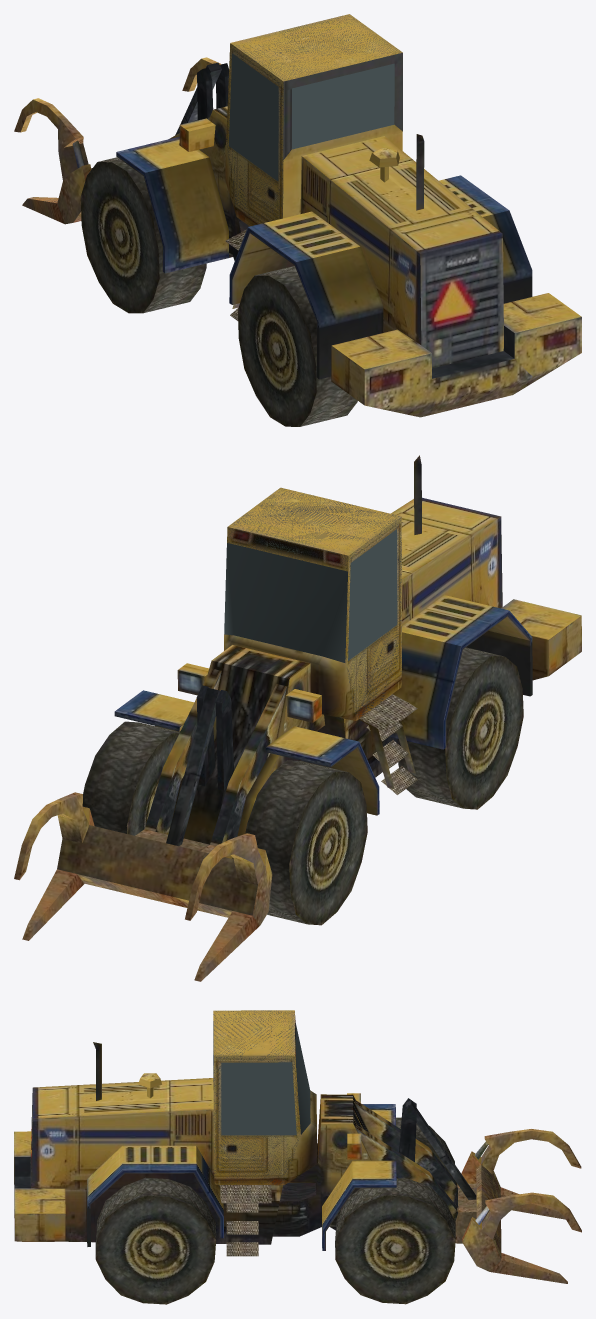
File: p54_41_loader_claw_yellow.glb
The picture shows the model from 3 angles, top to bottom: view 1: azimuth 30°, elevation 25°; view 2: azimuth 150°, elevation 25°; view 3: azimuth 270°, elevation 25°; orthographic projection. The views are drawn at different scales.
Parts seen in each view (by area): view 1: Body, Glass; view 2: Body, Glass; view 3: Body, Glass.
Boxes of the visible parts, x1,y1,x2,y2 form: Body: (14, 14, 581, 426); Glass: (229, 53, 394, 181); Body: (14, 455, 581, 981); Glass: (224, 529, 397, 662); Body: (14, 1010, 581, 1304); Glass: (213, 1023, 310, 1135).
Size of the model in its own units: 2.28 by 3.02 by 6.68.
Materials: 2 (2 with a texture image).
